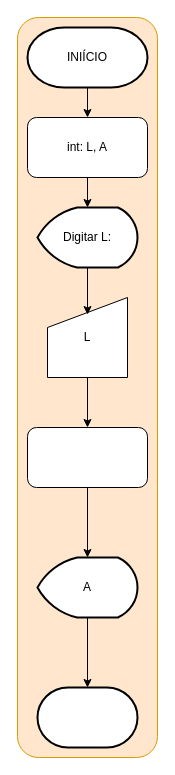
Image size: 175x775. Some labels were removed from this diagram. Here are the shapes that lost their labels. From the top down, the centre of each, then its label:
point (87, 457): A = L * L
point (87, 717): FIM
